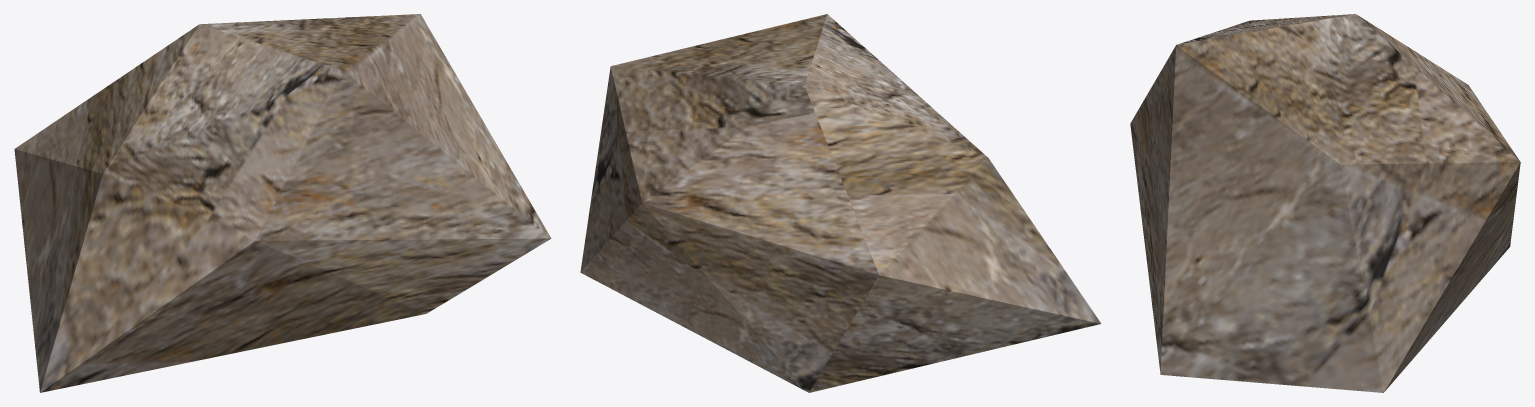
Rendered from Iso_Kivi.fbx.
The picture shows the model from 3 angles, left to right: view 1: azimuth 30°, elevation 25°; view 2: azimuth 150°, elevation 25°; view 3: azimuth 270°, elevation 25°; orthographic projection. The views are drawn at different scales.
Parts seen in each view (by area): view 1: Kivi_ISO; view 2: Kivi_ISO; view 3: Kivi_ISO.
Boxes of the visible parts, left/top/right/bottom form: Kivi_ISO: left=14, top=14, right=551, bottom=392; Kivi_ISO: left=580, top=14, right=1101, bottom=392; Kivi_ISO: left=1130, top=14, right=1520, bottom=392.
Bounding box in the file's own units: 4.03 × 1.98 × 2.56.
